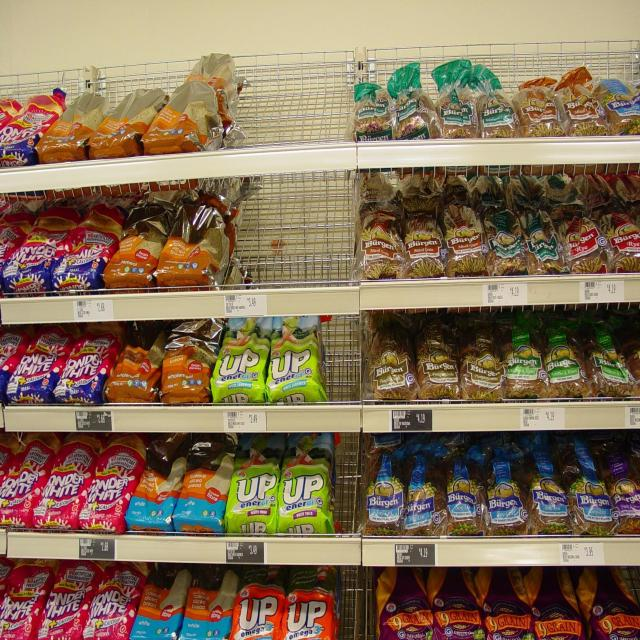empty_space: (243, 200, 349, 272), (251, 57, 345, 131), (328, 325, 360, 400), (337, 452, 365, 520), (341, 586, 371, 639)
